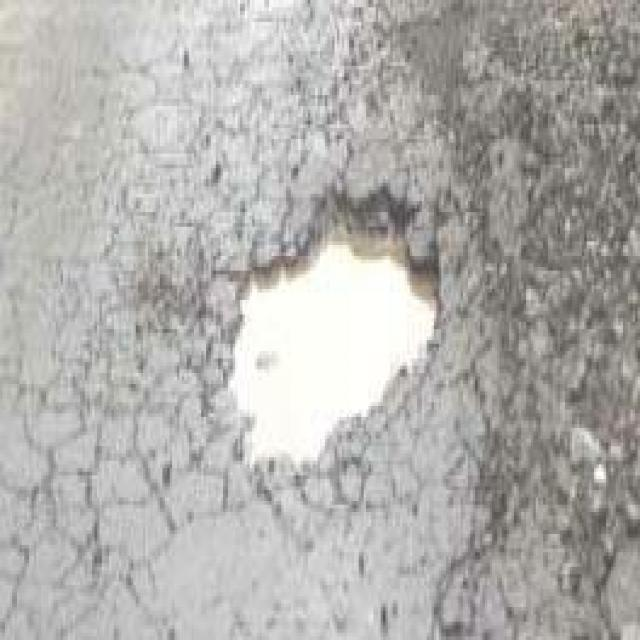Buraco: (202, 183, 452, 473)
